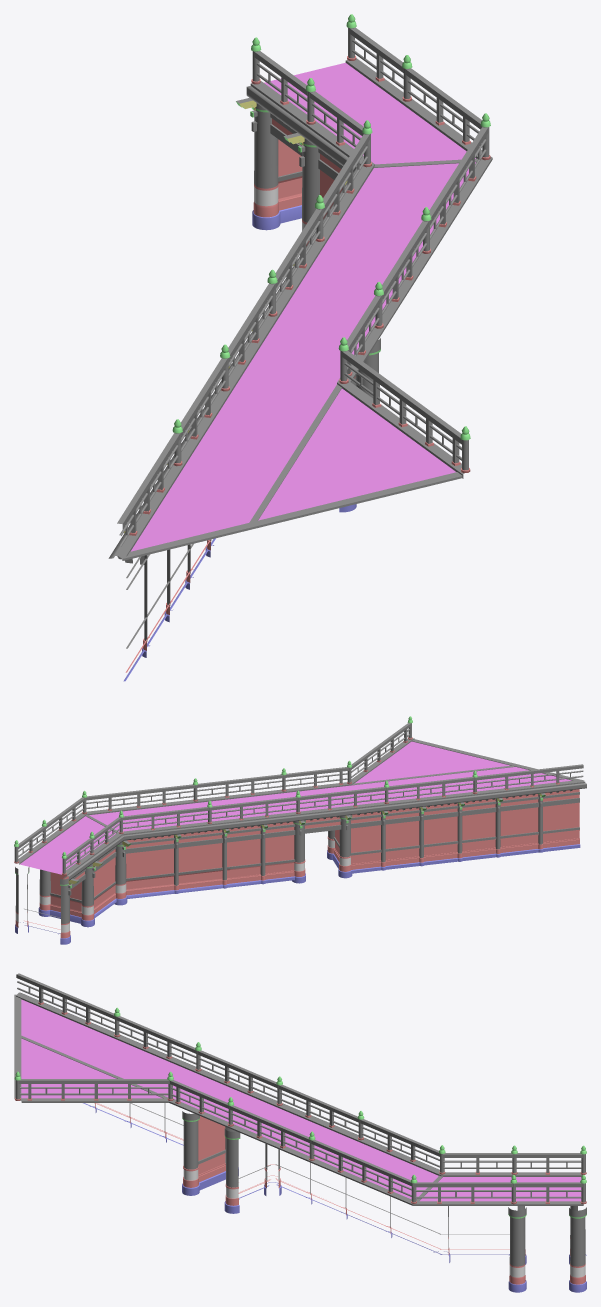
File: SM_ENV_KNVLLG03_Bridge_BendB.gltf
The picture shows the model from 3 angles, top to bottom: view 1: azimuth 30°, elevation 25°; view 2: azimuth 150°, elevation 25°; view 3: azimuth 270°, elevation 25°; orthographic projection. The views are drawn at different scales.
Parts seen in each view (by area): view 1: SM_ENV_KNVLLG03_Bridge_BendB; view 2: SM_ENV_KNVLLG03_Bridge_BendB; view 3: SM_ENV_KNVLLG03_Bridge_BendB.
Part boxes in pixels (left/top/right/bottom): SM_ENV_KNVLLG03_Bridge_BendB: left=108, top=14, right=492, bottom=681; SM_ENV_KNVLLG03_Bridge_BendB: left=14, top=716, right=586, bottom=944; SM_ENV_KNVLLG03_Bridge_BendB: left=14, top=973, right=586, bottom=1292.
Size of the model in its own units: 33.21 by 8.37 by 37.61.
